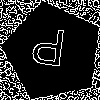P: (28, 27, 68, 76)
